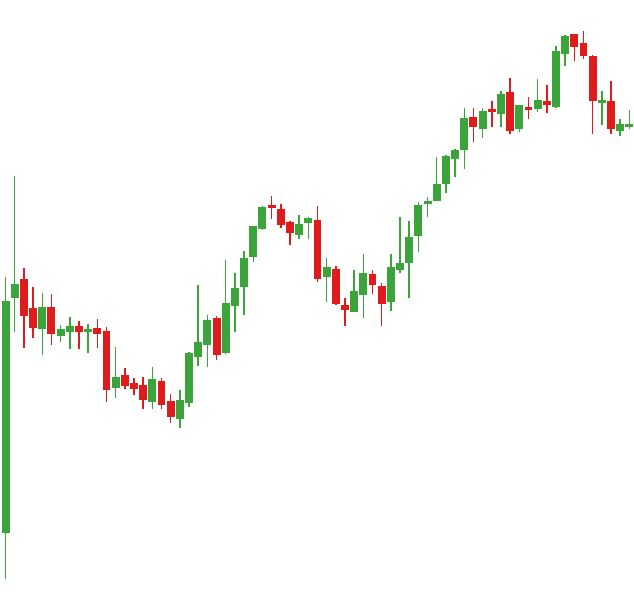buy: (505, 59, 607, 135)
